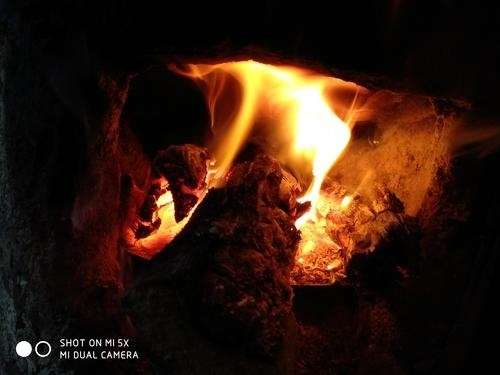fire: (167, 58, 353, 199), (130, 178, 187, 244)
